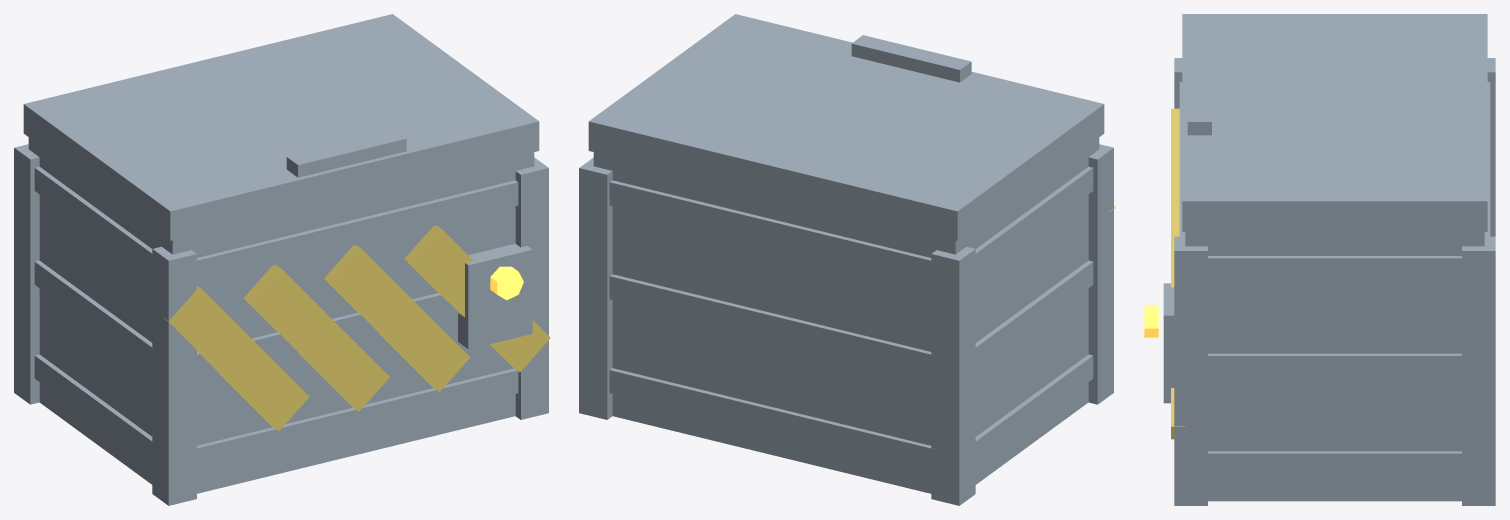
The model's file is wipe-day-survival-island-elite-locked-crate-bede223e__27451.glb.
The picture shows the model from 3 angles, left to right: view 1: azimuth 30°, elevation 25°; view 2: azimuth 150°, elevation 25°; view 3: azimuth 270°, elevation 25°; orthographic projection. The views are drawn at different scales.
Parts seen in each view (by area): view 1: elite-locked-crate, lid; view 2: elite-locked-crate, lid; view 3: elite-locked-crate, lid.
Boxes of the visible parts, x1,y1,x2,y2 form: elite-locked-crate: (14,137,550,505); lid: (23,14,539,240); elite-locked-crate: (579,137,1115,505); lid: (588,14,1104,240); elite-locked-crate: (1144,58,1495,505); lid: (1182,14,1487,231).
Size of the model in its own units: 0.9471 by 0.72 by 0.728.
